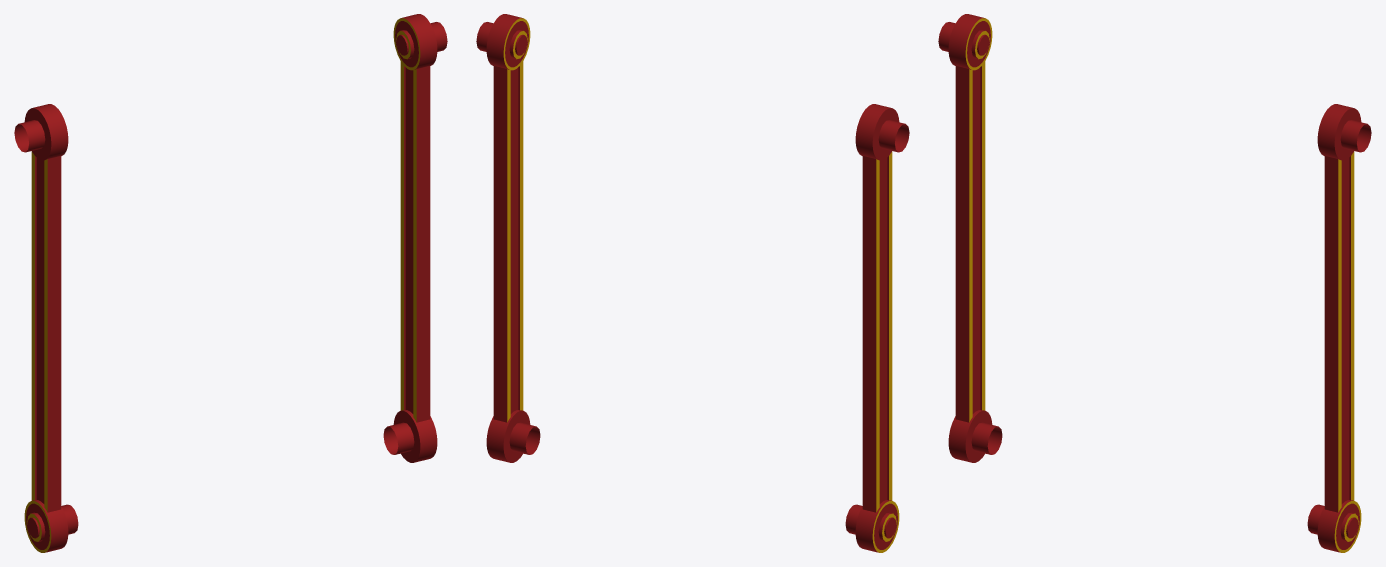
File: SteamLocomotive_01_ConnectingRod.fbx
The picture shows the model from 3 angles, left to right: view 1: azimuth 30°, elevation 25°; view 2: azimuth 150°, elevation 25°; view 3: azimuth 330°, elevation 25°; orthographic projection.
Visible parts, largest first — view 1: SteamLocomotive_01_ConnectingRod; view 2: SteamLocomotive_01_ConnectingRod; view 3: SteamLocomotive_01_ConnectingRod.
Part boxes in pixels (bbox=[...]): SteamLocomotive_01_ConnectingRod: bbox=[14, 14, 447, 552]; SteamLocomotive_01_ConnectingRod: bbox=[476, 14, 909, 552]; SteamLocomotive_01_ConnectingRod: bbox=[938, 14, 1371, 552].
Bounding box in the file's own units: 2.45 × 2.47 × 0.273.
